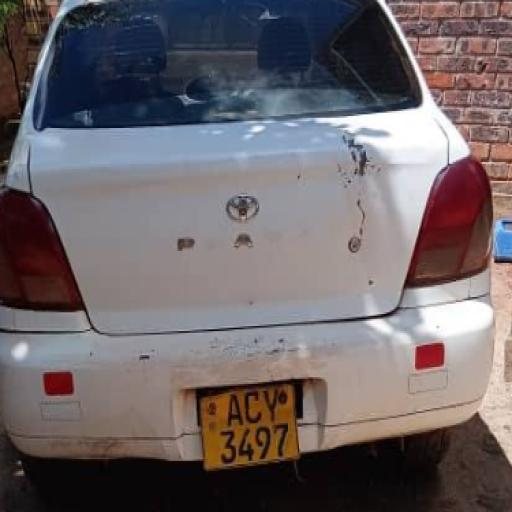number-plates: (201, 394, 296, 460)
